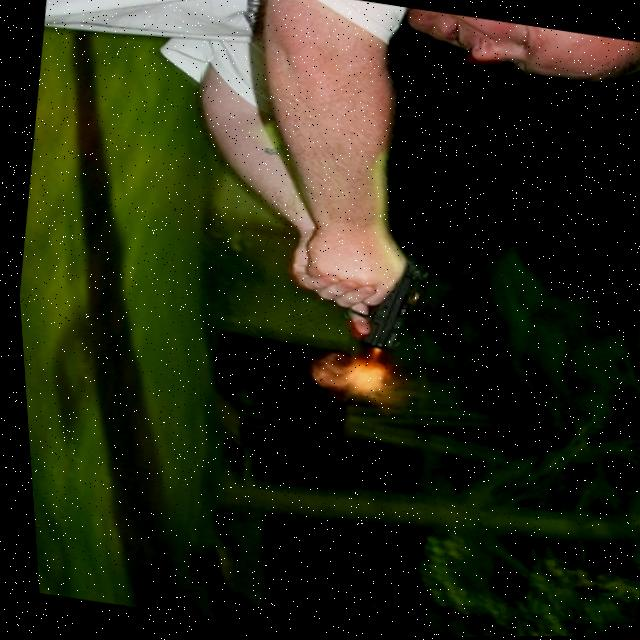pistol: (336, 251, 430, 355)
